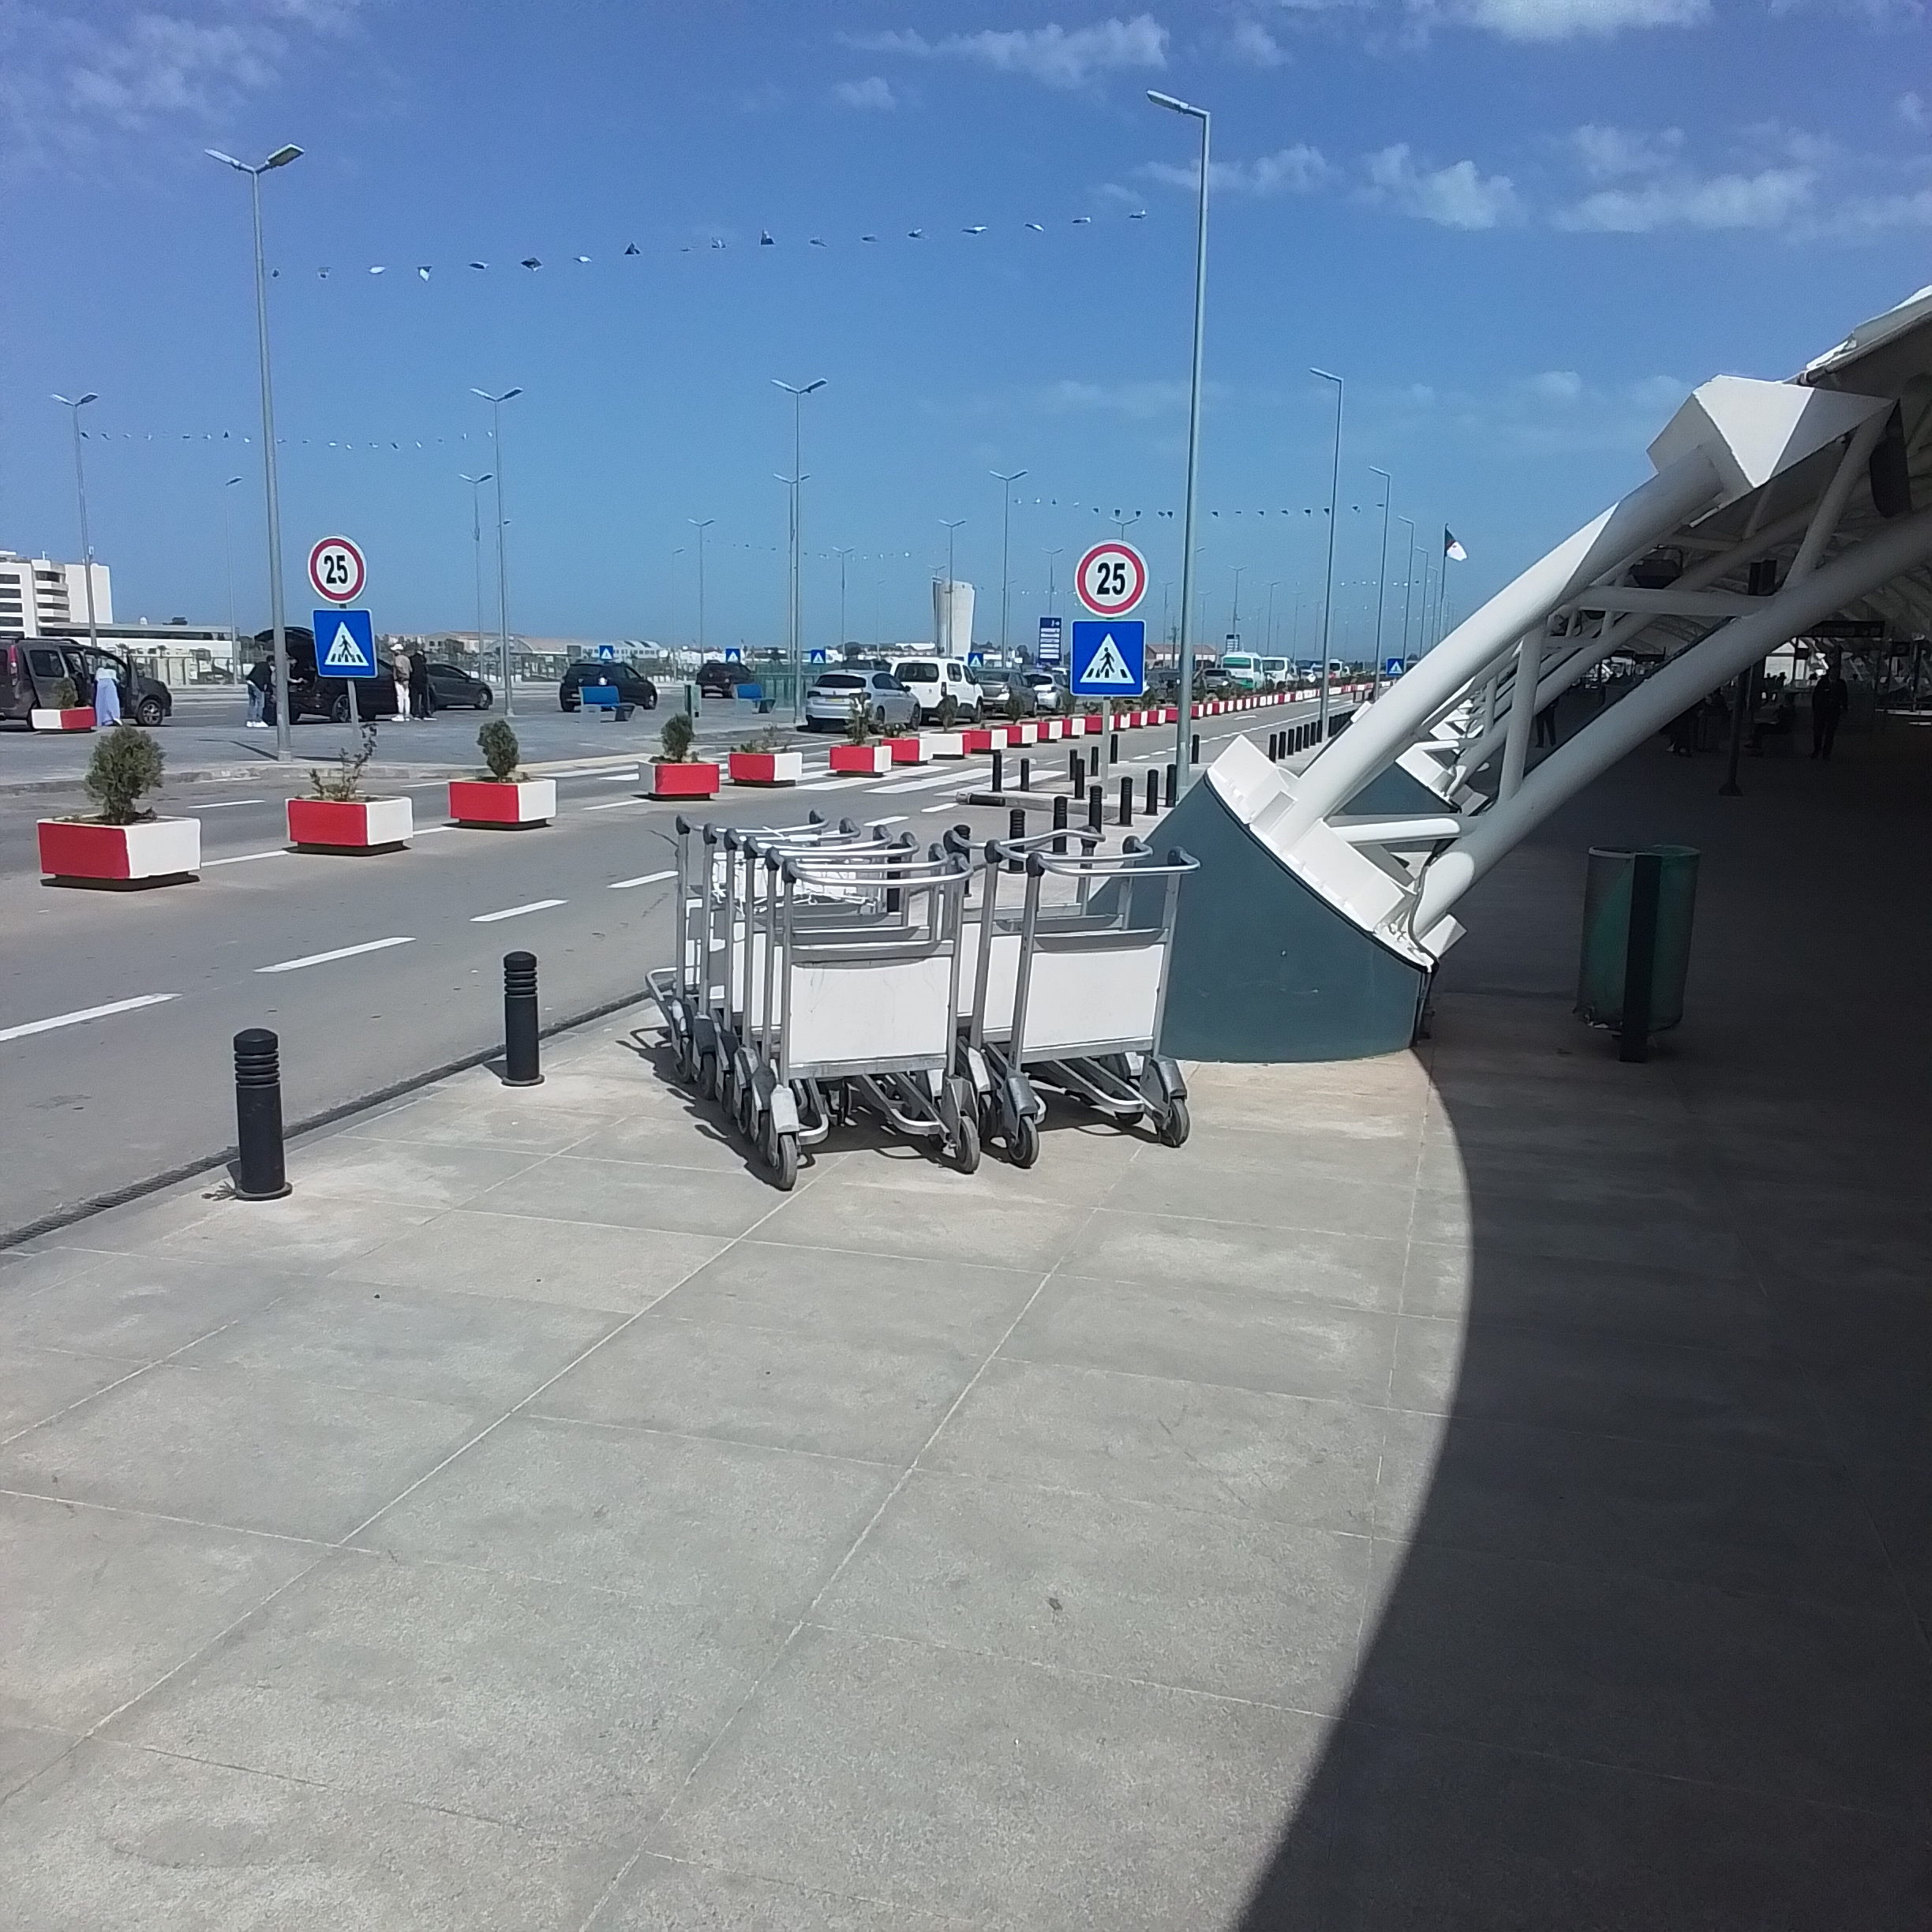airport-trolley: (770, 865, 977, 1175), (1007, 860, 1198, 1168)
